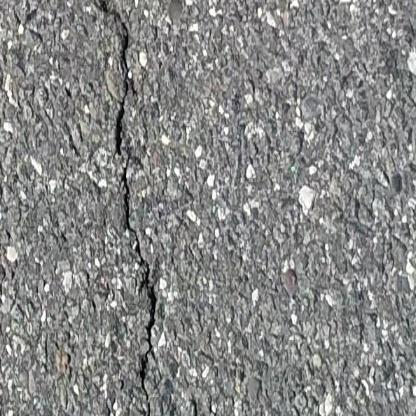Cracks: (95, 0, 162, 416), (107, 407, 120, 416)
